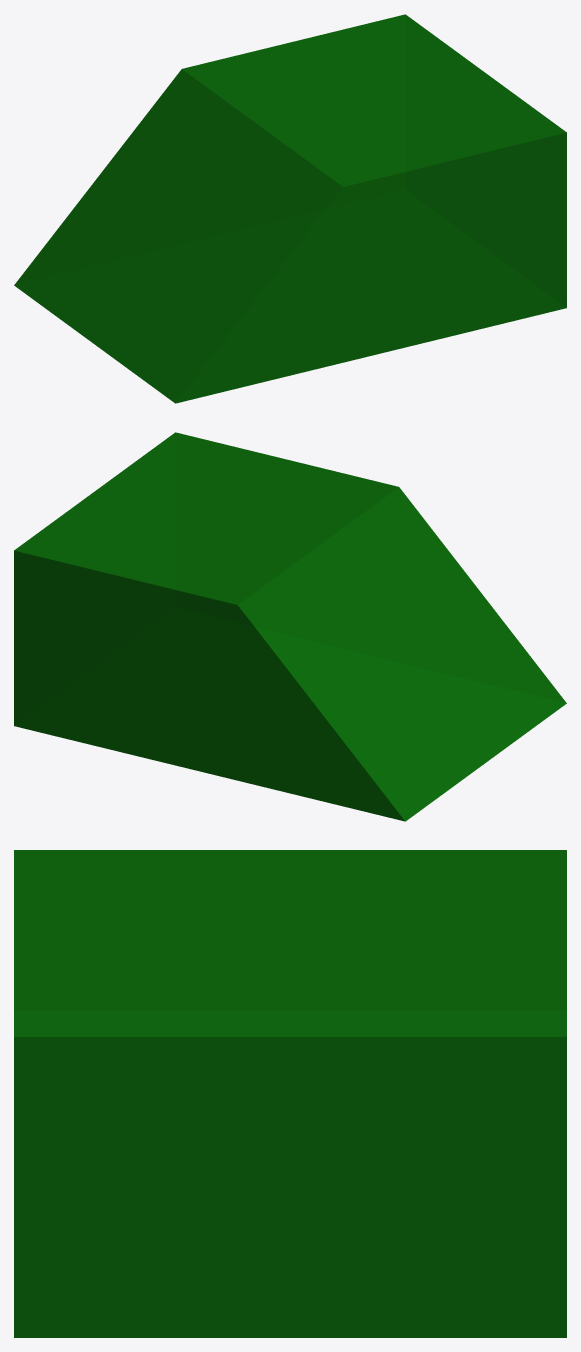
The picture shows the model from 3 angles, top to bottom: view 1: azimuth 30°, elevation 25°; view 2: azimuth 150°, elevation 25°; view 3: azimuth 270°, elevation 25°; orthographic projection. The views are drawn at different scales.
Visible parts, largest first — view 1: SketchUp; view 2: SketchUp; view 3: SketchUp.
Part boxes in pixels (left/top/right/bottom): SketchUp: left=14, top=14, right=566, bottom=403; SketchUp: left=14, top=432, right=566, bottom=821; SketchUp: left=14, top=850, right=566, bottom=1337.
Bounding box in the file's own units: 276 × 197 × 118.
